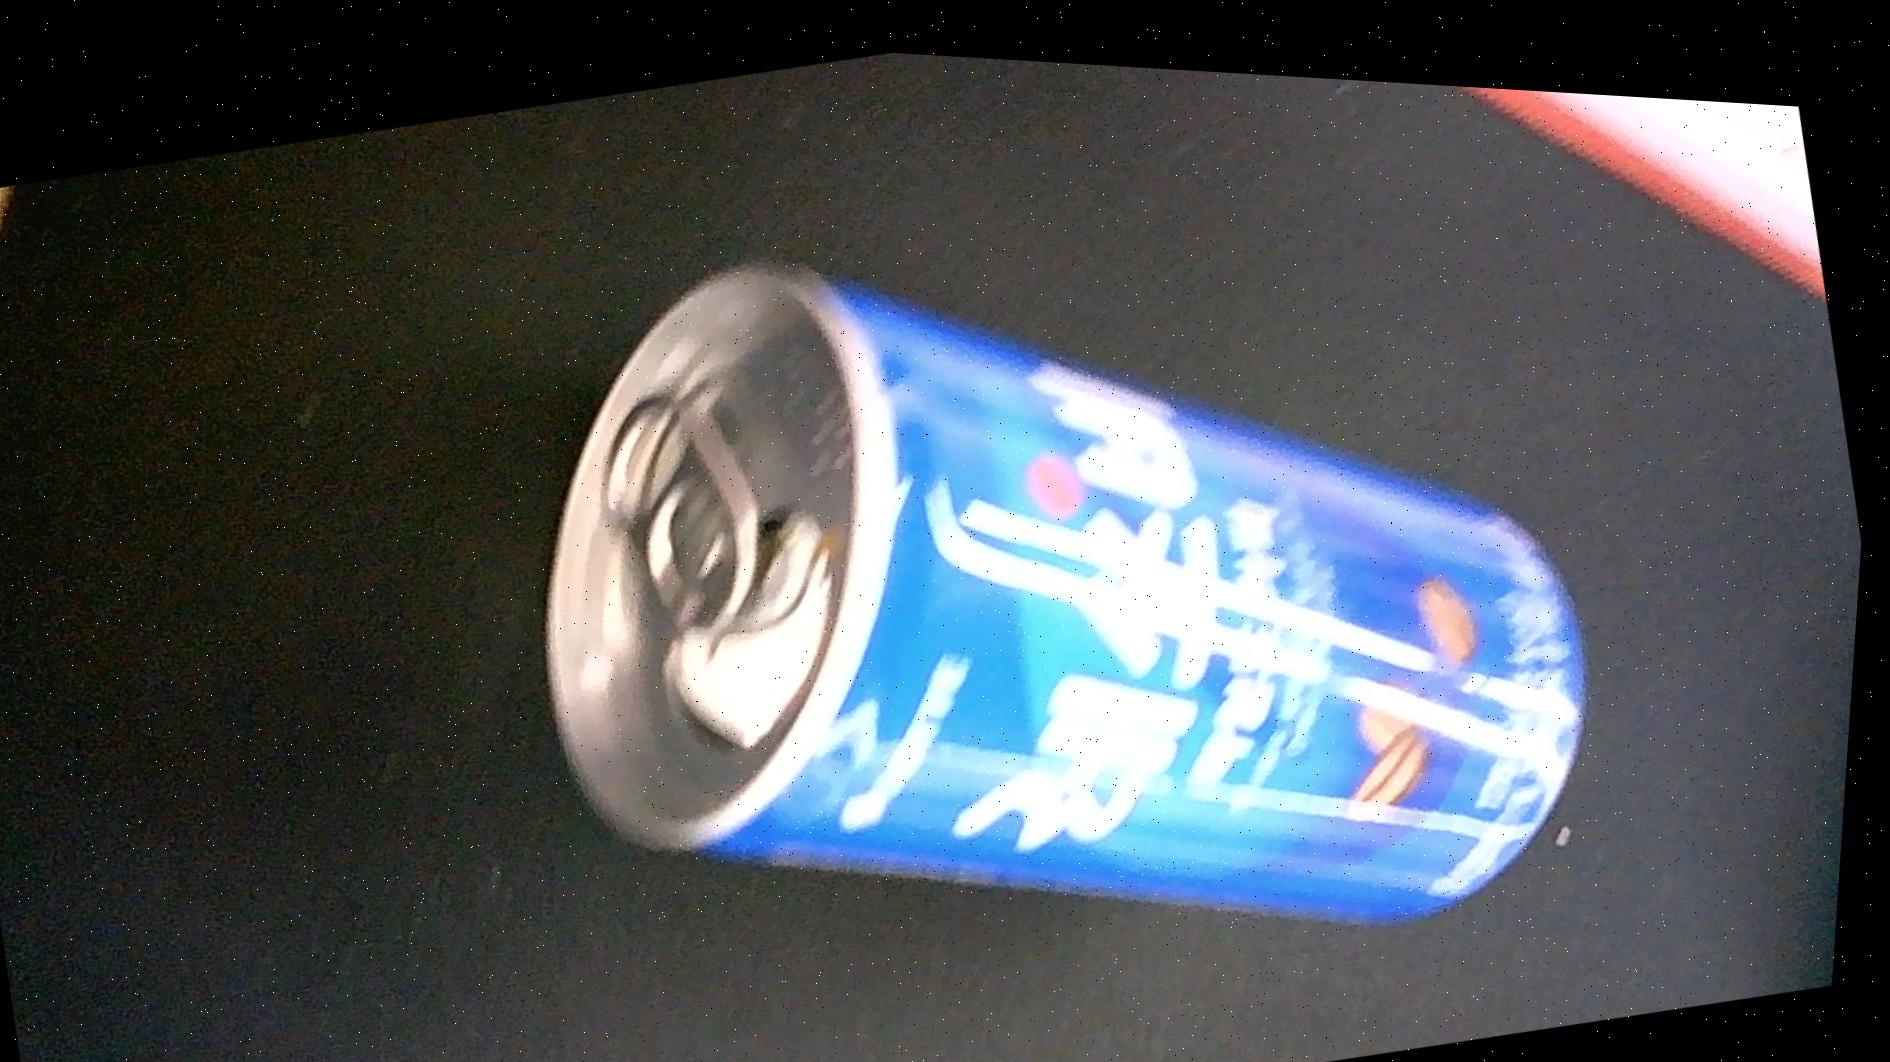letsbe: (456, 74, 1669, 1062)
